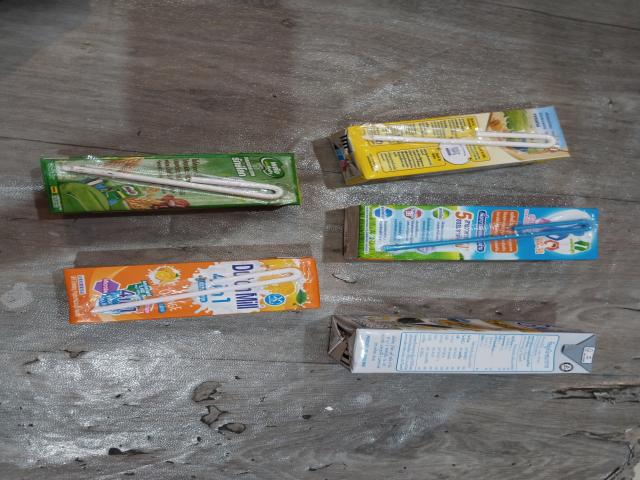drink_box: (335, 311, 607, 376), (32, 150, 299, 214), (344, 204, 612, 266), (65, 262, 323, 324), (331, 119, 584, 174)
